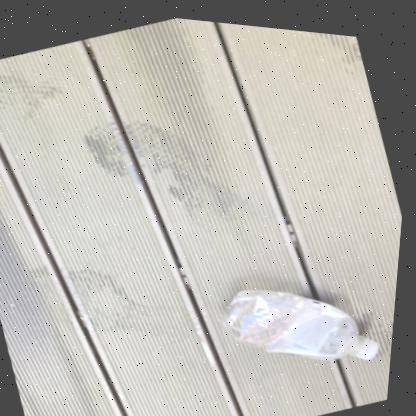Plastic: (226, 283, 383, 352)
